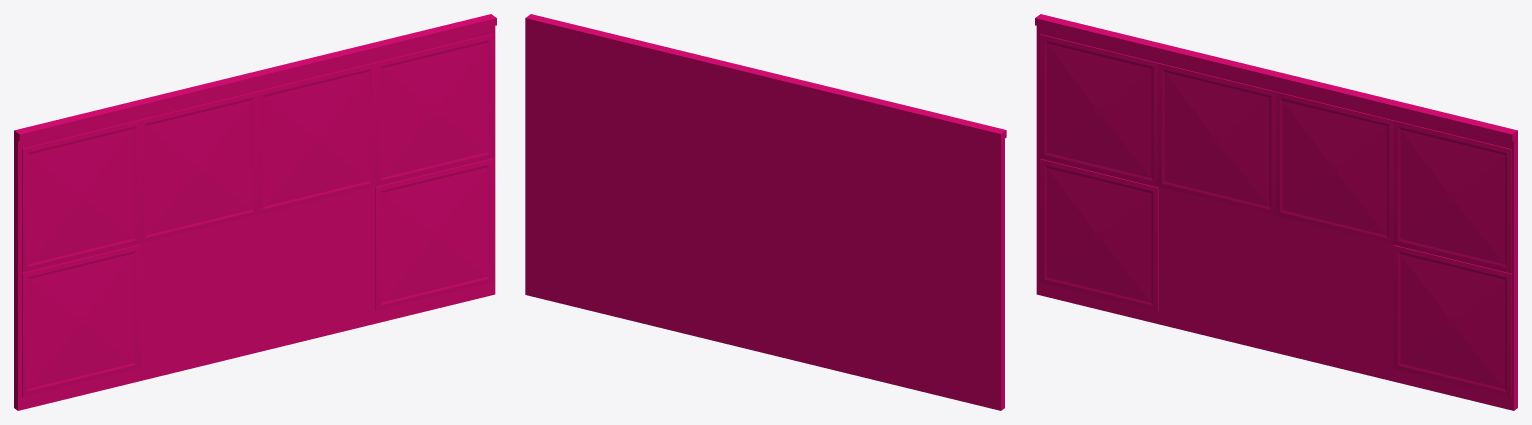
The model's file is Garage_H_Door.fbx.
3 renders of one model, left to right at view 1: azimuth 30°, elevation 25°; view 2: azimuth 150°, elevation 25°; view 3: azimuth 330°, elevation 25°, orthographic.
Visible parts, largest first — view 1: Garage_H_Door; view 2: Garage_H_Door; view 3: Garage_H_Door.
Boxes of the visible parts, x1,y1,x2,y2 form: Garage_H_Door: (14, 14, 496, 410); Garage_H_Door: (525, 14, 1006, 410); Garage_H_Door: (1035, 14, 1517, 410).
Bounding box in the file's own units: 521 × 290 × 10.65.
